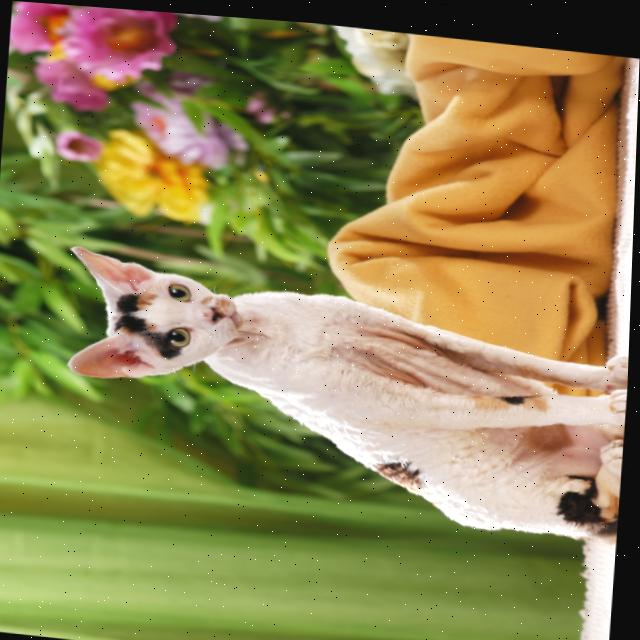Cornish Rex: (46, 240, 633, 540)
